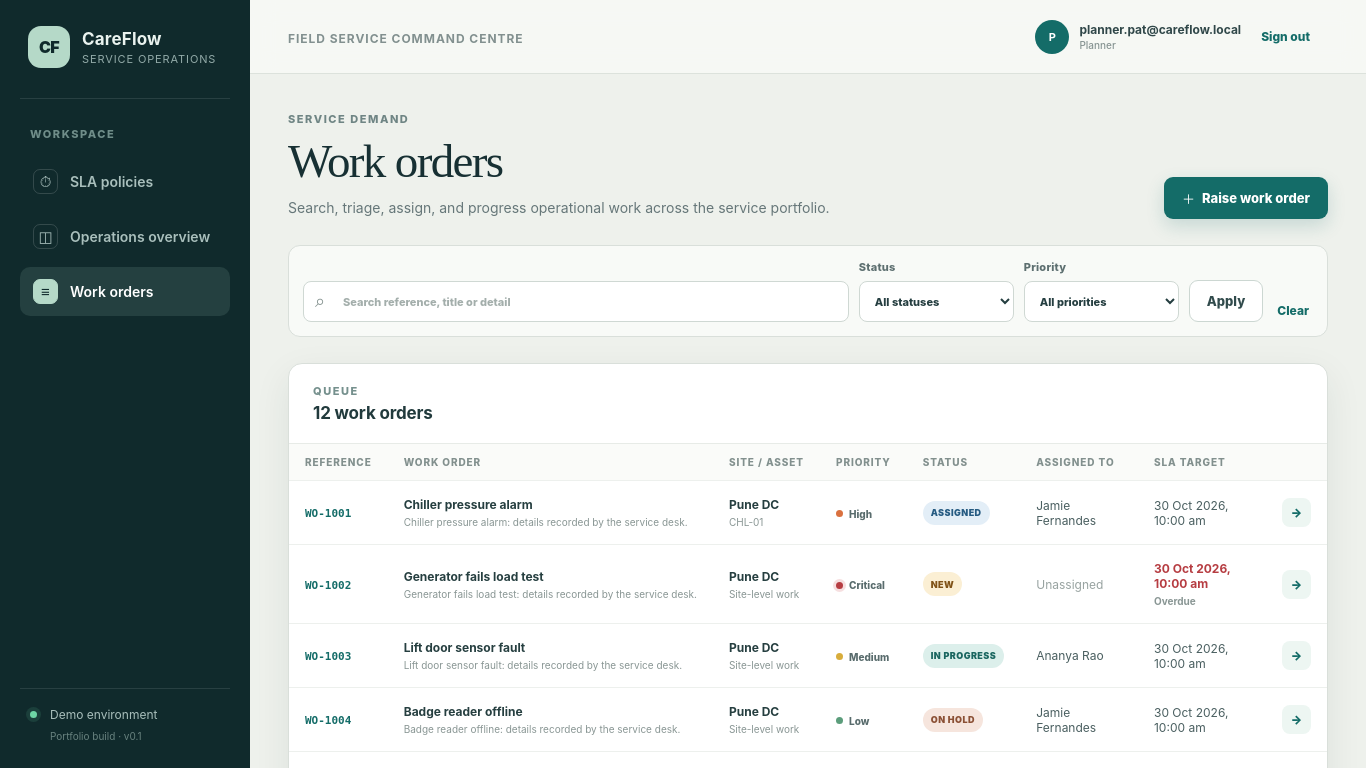
Work orders list (MSW) › sends the chosen filters to the API and shows only matching rows
In the field with placeholder "Search reference, title or detail": (576, 302) x1=303 y1=281 x2=849 y2=322, type "generator"
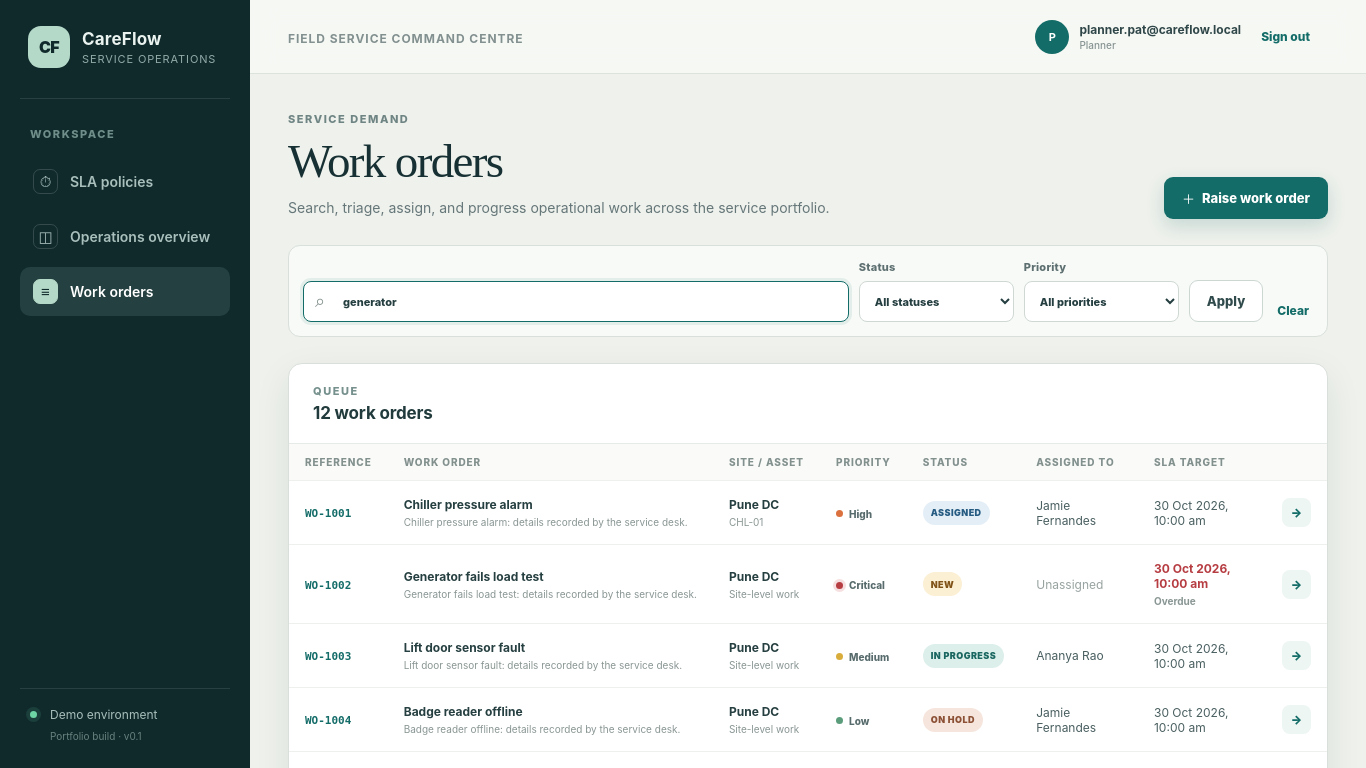
Select "NEW" in the dropdown labelled "Status": (936, 302) x1=859 y1=281 x2=1014 y2=322
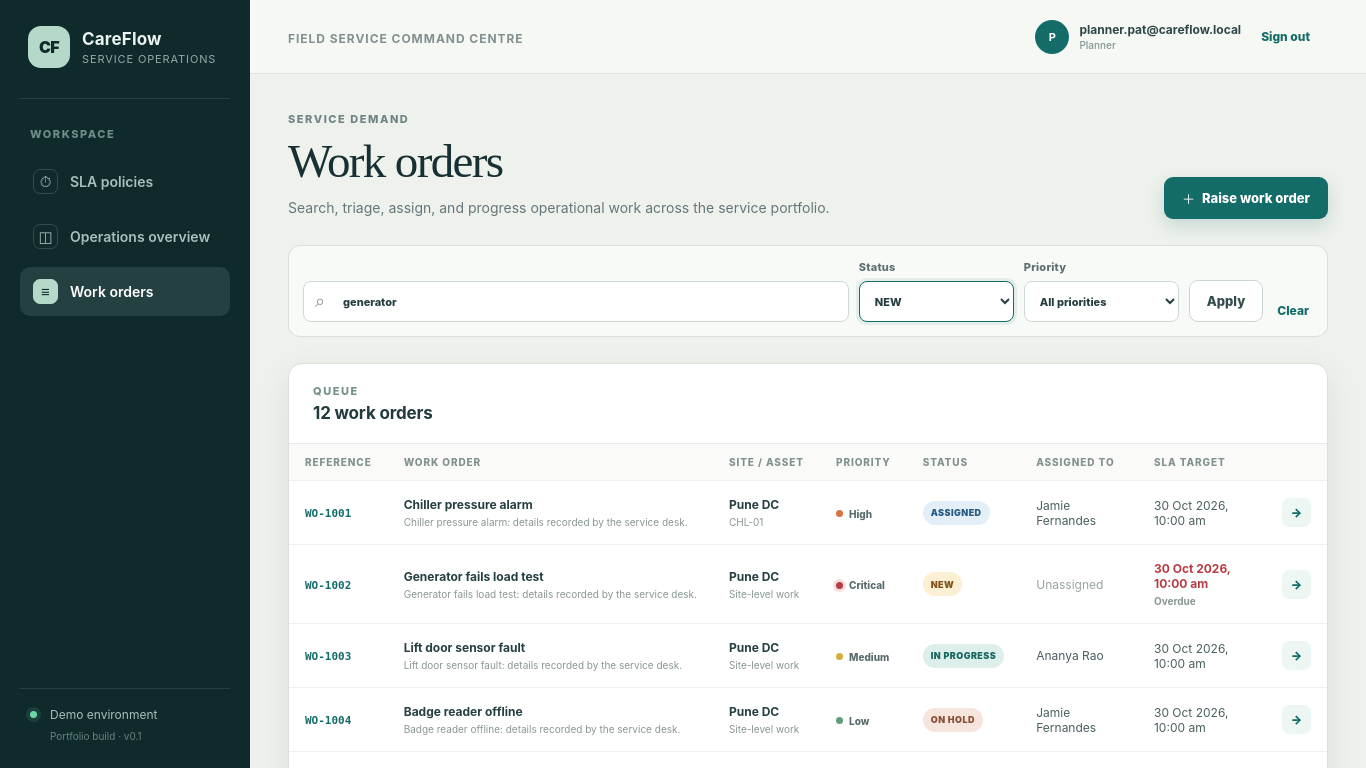
Select "CRITICAL" in the dropdown labelled "Priority": (1101, 302) x1=1024 y1=281 x2=1179 y2=322
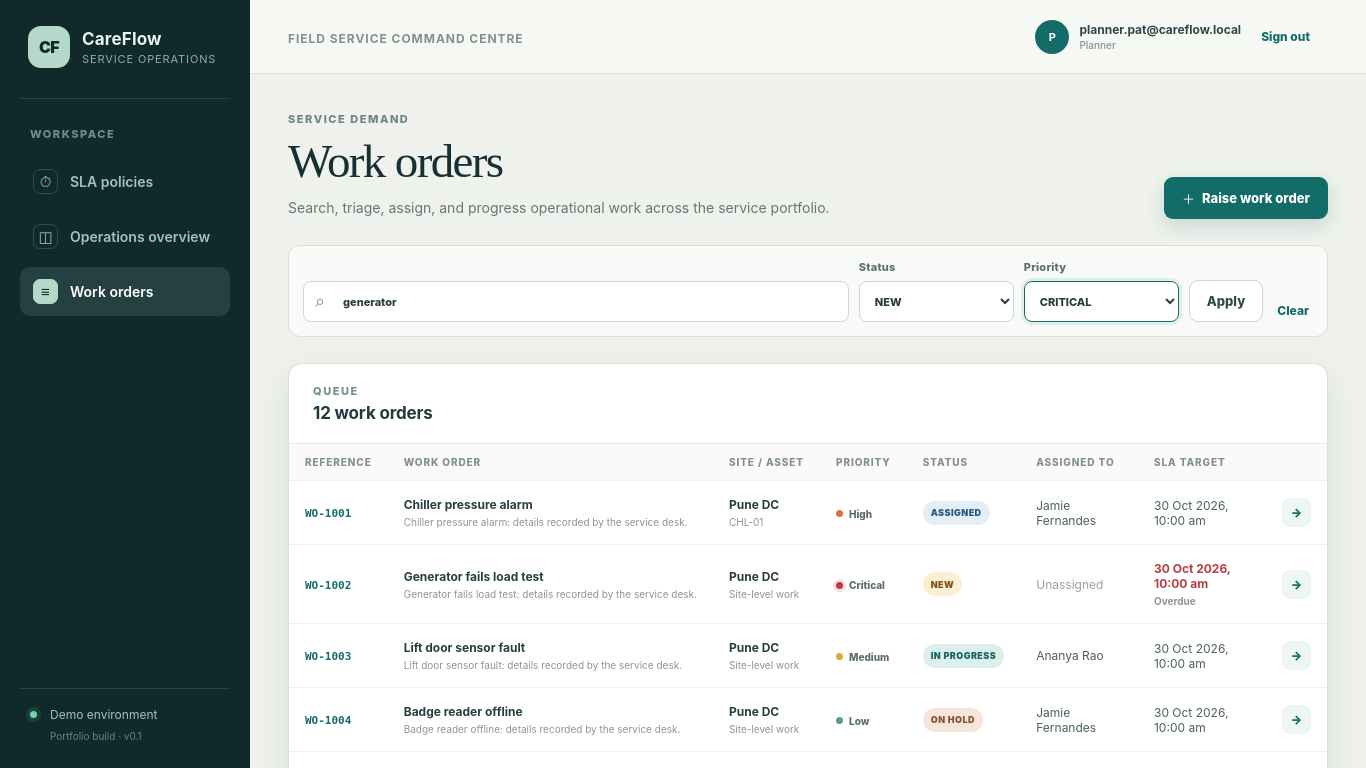
Click the button "Apply": click(1226, 301) x1=1189 y1=280 x2=1263 y2=322
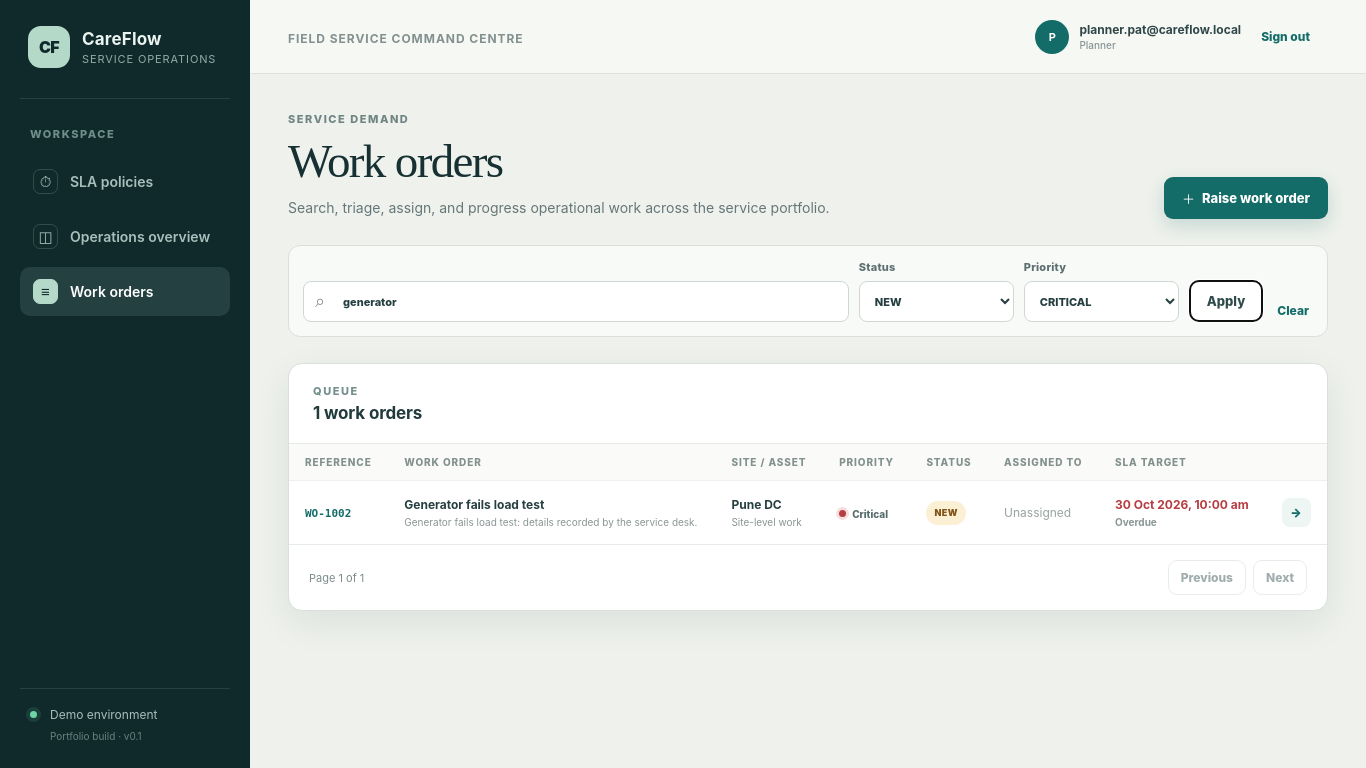
Expected: the text "Generator fails load test" is shown, x1=404 y1=497 x2=544 y2=512
Expected: the heading "1 work orders" is shown, x1=313 y1=403 x2=422 y2=423
